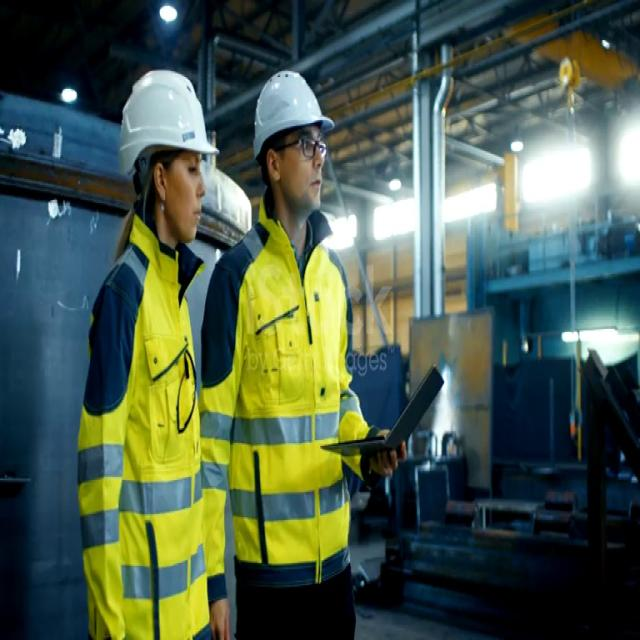capacete: (108, 45, 221, 188), (236, 54, 340, 172)
